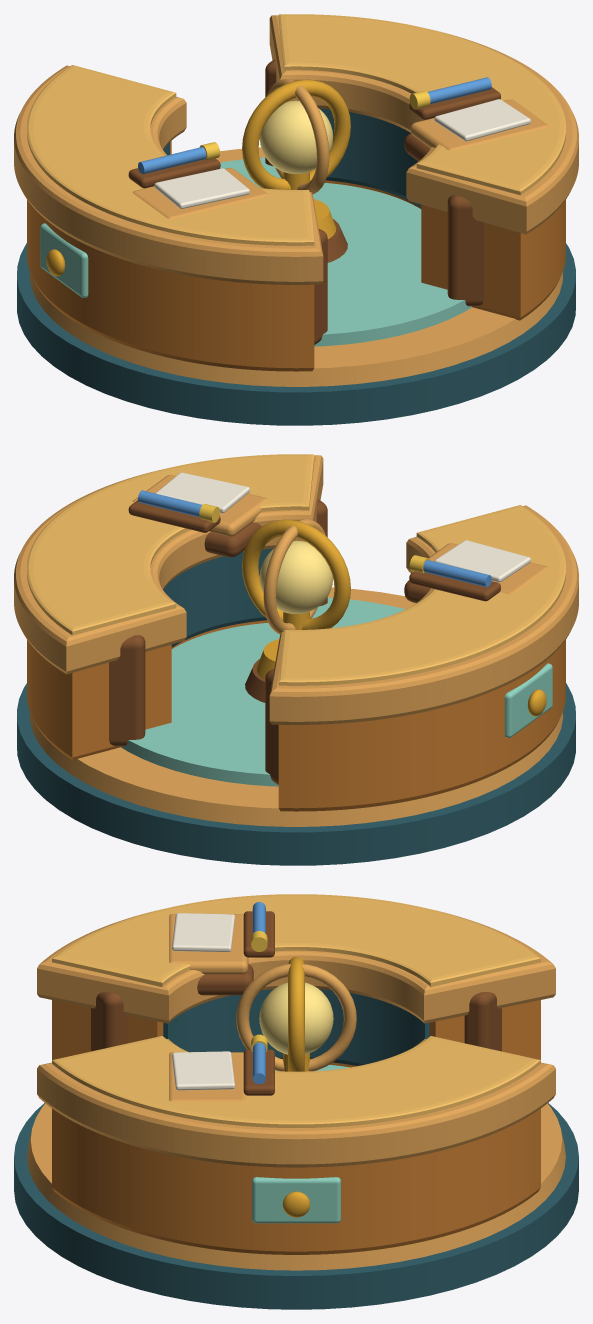
The model's file is mediation-podium.glb.
The picture shows the model from 3 angles, top to bottom: view 1: azimuth 30°, elevation 25°; view 2: azimuth 150°, elevation 25°; view 3: azimuth 270°, elevation 25°; orthographic projection.
Visible parts, largest first — view 1: wide-circular-floor-base-and-four-subtle-feet-surface-0, left-equal-ring-segment-surface-0, two-equal-rounded-ring-worktops-surface-5, two-equal-rounded-ring-worktops-surface-4, wide-circular-floor-base-and-four-subtle-feet-surface-4, two-equal-rounded-ring-worktops-surface-2, wide-circular-floor-base-and-four-subtle-feet-surface-2, two-equal-rounded-ring-worktops-surface-0, central-listening-light-open-brass-ring-and-pedestal-surface (×5), right-equal-ring-segment-surface-0, symmetric-inner-teal-panels-surface-0, finished-open-gap-endcaps-surface-0 (+10 smaller); view 2: wide-circular-floor-base-and-four-subtle-feet-surface-0, left-equal-ring-segment-surface-0, two-equal-rounded-ring-worktops-surface-5, two-equal-rounded-ring-worktops-surface-4, wide-circular-floor-base-and-four-subtle-feet-surface-4, wide-circular-floor-base-and-four-subtle-feet-surface-2, two-equal-rounded-ring-worktops-surface-2, two-equal-rounded-ring-worktops-surface-0, central-listening-light-open-brass-ring-and-pedestal-surface (×5), right-equal-ring-segment-surface-0, symmetric-inner-teal-panels-surface-0, finished-open-gap-endcaps-surface-4 (+11 smaller); view 3: right-equal-ring-segment-surface-0, wide-circular-floor-base-and-four-subtle-feet-surface-0, two-equal-rounded-ring-worktops-surface-4, two-equal-rounded-ring-worktops-surface-5, two-equal-rounded-ring-worktops-surface-0, two-equal-rounded-ring-worktops-surface-2, wide-circular-floor-base-and-four-subtle-feet-surface-2, symmetric-inner-teal-panels-surface-2, central-listening-light-open-brass-ring-and-pedestal-surface (×3), left-equal-ring-segment-surface-0, two-symmetric-storage-drawers-surface-8, equal-right-document-ledge-surface-4 (+10 smaller).
Part boxes in pixels (x1,y1,x2,y2): wide-circular-floor-base-and-four-subtle-feet-surface-0: (17,243,575,425); left-equal-ring-segment-surface-0: (27,141,314,371); two-equal-rounded-ring-worktops-surface-5: (27,65,314,245); two-equal-rounded-ring-worktops-surface-4: (278,14,565,195); wide-circular-floor-base-and-four-subtle-feet-surface-4: (220,157,471,346); two-equal-rounded-ring-worktops-surface-2: (14,65,323,284); wide-circular-floor-base-and-four-subtle-feet-surface-2: (29,147,563,386); two-equal-rounded-ring-worktops-surface-0: (269,15,578,234); central-listening-light-open-brass-ring-and-pedestal-surface (×5): (242,79,350,262); right-equal-ring-segment-surface-0: (324,180,565,320); symmetric-inner-teal-panels-surface-0: (319,108,421,207); finished-open-gap-endcaps-surface-0: (447,195,483,306); wide-circular-floor-base-and-four-subtle-feet-surface-0: (17,683,575,865); left-equal-ring-segment-surface-0: (278,640,565,811); two-equal-rounded-ring-worktops-surface-5: (278,505,565,685); two-equal-rounded-ring-worktops-surface-4: (27,454,314,635); wide-circular-floor-base-and-four-subtle-feet-surface-4: (121,597,405,786); wide-circular-floor-base-and-four-subtle-feet-surface-2: (29,587,563,826); two-equal-rounded-ring-worktops-surface-2: (269,505,578,724); two-equal-rounded-ring-worktops-surface-0: (14,455,323,674); central-listening-light-open-brass-ring-and-pedestal-surface (×5): (242,519,350,702); right-equal-ring-segment-surface-0: (27,620,268,760); symmetric-inner-teal-panels-surface-0: (163,548,273,647); finished-open-gap-endcaps-surface-4: (109,635,145,746); right-equal-ring-segment-surface-0: (52,1108,540,1254); wide-circular-floor-base-and-four-subtle-feet-surface-0: (14,1103,578,1309); two-equal-rounded-ring-worktops-surface-4: (52,1036,540,1127); two-equal-rounded-ring-worktops-surface-5: (52,894,540,987); two-equal-rounded-ring-worktops-surface-0: (37,1039,555,1167); two-equal-rounded-ring-worktops-surface-2: (37,910,555,1023); wide-circular-floor-base-and-four-subtle-feet-surface-2: (27,1103,565,1270); symmetric-inner-teal-panels-surface-2: (163,989,429,1065); central-listening-light-open-brass-ring-and-pedestal-surface (×3): (236,956,356,1071); left-equal-ring-segment-surface-0: (52,1000,540,1067); two-symmetric-storage-drawers-surface-8: (252,1177,340,1223); equal-right-document-ledge-surface-4: (172,1051,234,1090).
Size of the model in its own units: 1.75 by 0.7981 by 1.71.
